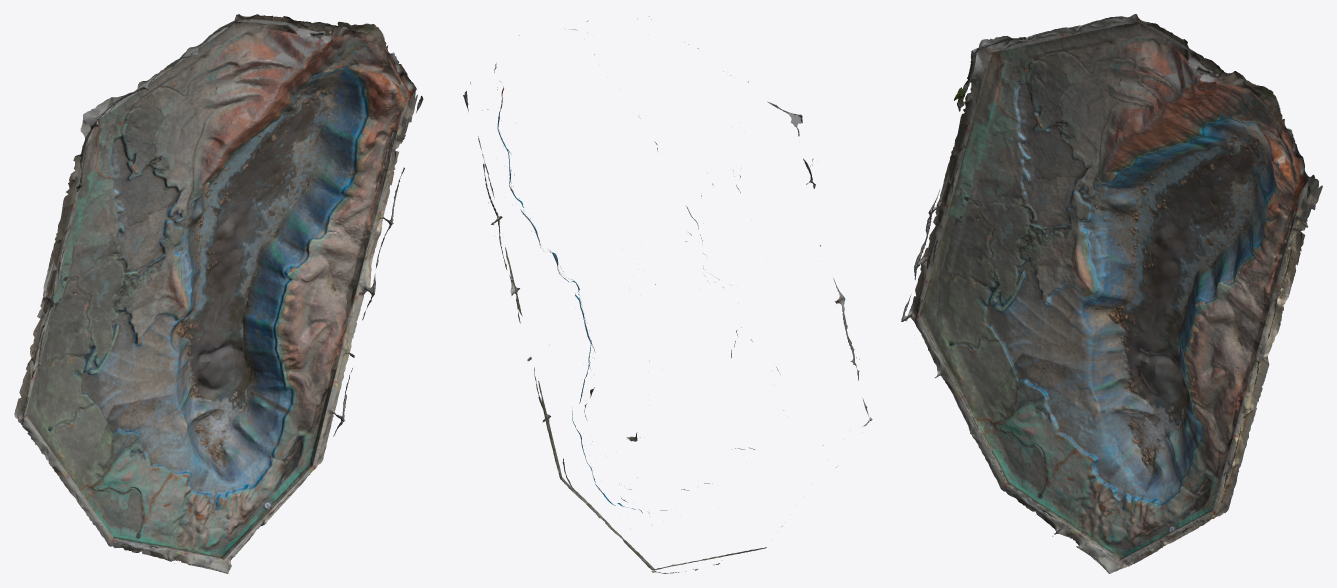
The model's file is blacksea-scan.glb.
3 views of the same model, side by side, from view 1: azimuth 30°, elevation 25°; view 2: azimuth 150°, elevation 25°; view 3: azimuth 330°, elevation 25° (orthographic).
Visible parts, largest first — view 1: BlackSea.obj; view 2: BlackSea.obj; view 3: BlackSea.obj.
Part boxes in pixels (x1=…): BlackSea.obj: x1=14, y1=14, x2=423, y2=573; BlackSea.obj: x1=463, y1=16, x2=872, y2=573; BlackSea.obj: x1=901, y1=14, x2=1322, y2=573.
Bounding box in the file's own units: 15.39 × 19.97 × 2.48.
1 material, 1 textured.
